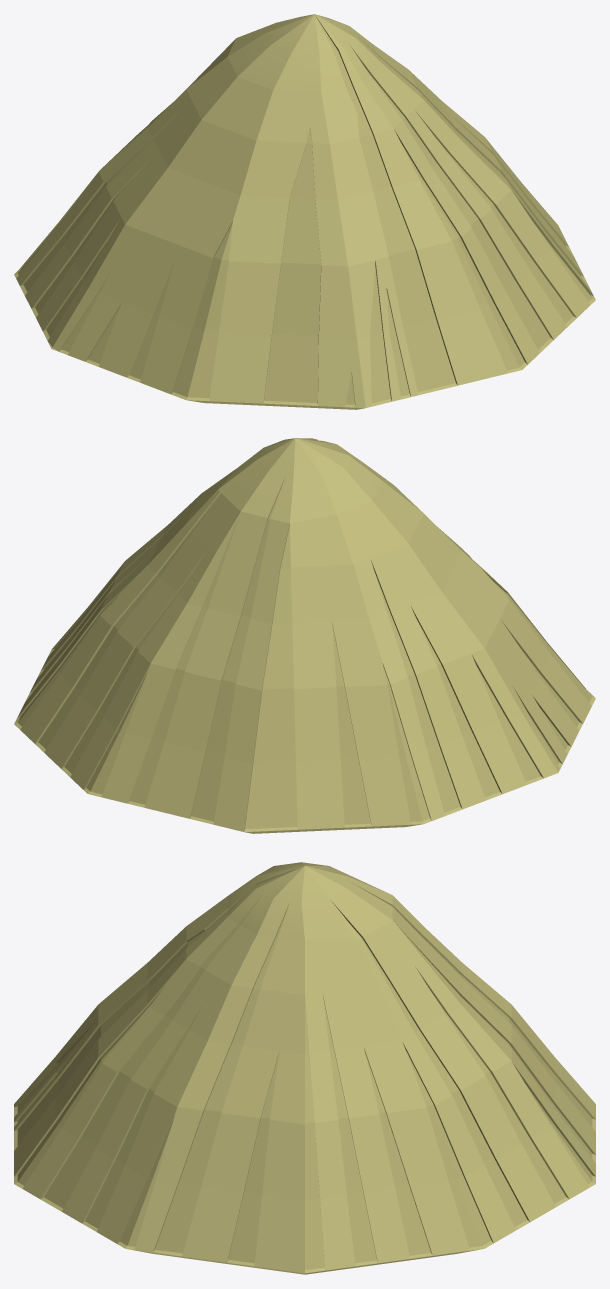
The model's file is HayStack.fbx.
3 views of the same model, one above another, from view 1: azimuth 30°, elevation 25°; view 2: azimuth 150°, elevation 25°; view 3: azimuth 270°, elevation 25° (orthographic). The views are drawn at different scales.
Visible parts, largest first — view 1: HayStack; view 2: HayStack; view 3: HayStack.
Boxes of the visible parts, left/top/right/bottom form: HayStack: left=14, top=14, right=595, bottom=409; HayStack: left=14, top=438, right=595, bottom=833; HayStack: left=14, top=862, right=595, bottom=1274.
Size of the model in its own units: 3.75 by 2.29 by 3.57.
